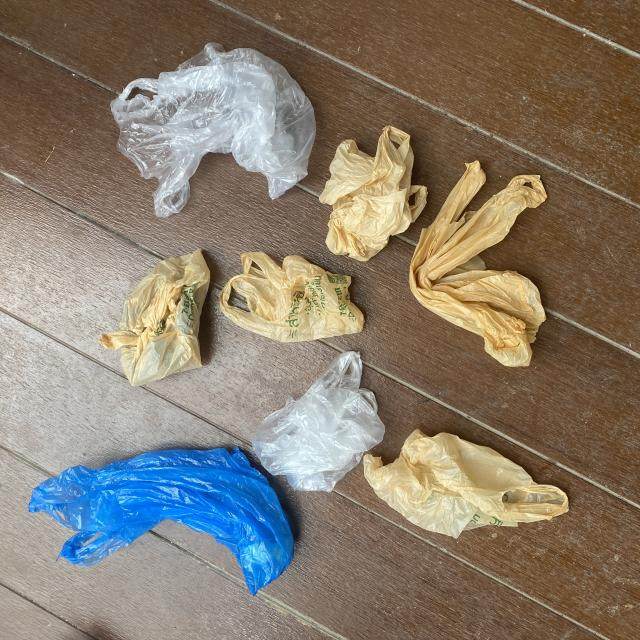Single-layer Plastic: (29, 449, 294, 595), (111, 42, 315, 218), (410, 161, 546, 366), (364, 430, 569, 538), (252, 351, 385, 491), (99, 250, 210, 386), (319, 126, 428, 261), (220, 252, 364, 342)
